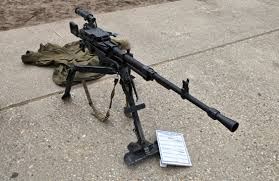gun: (68, 6, 239, 163)
